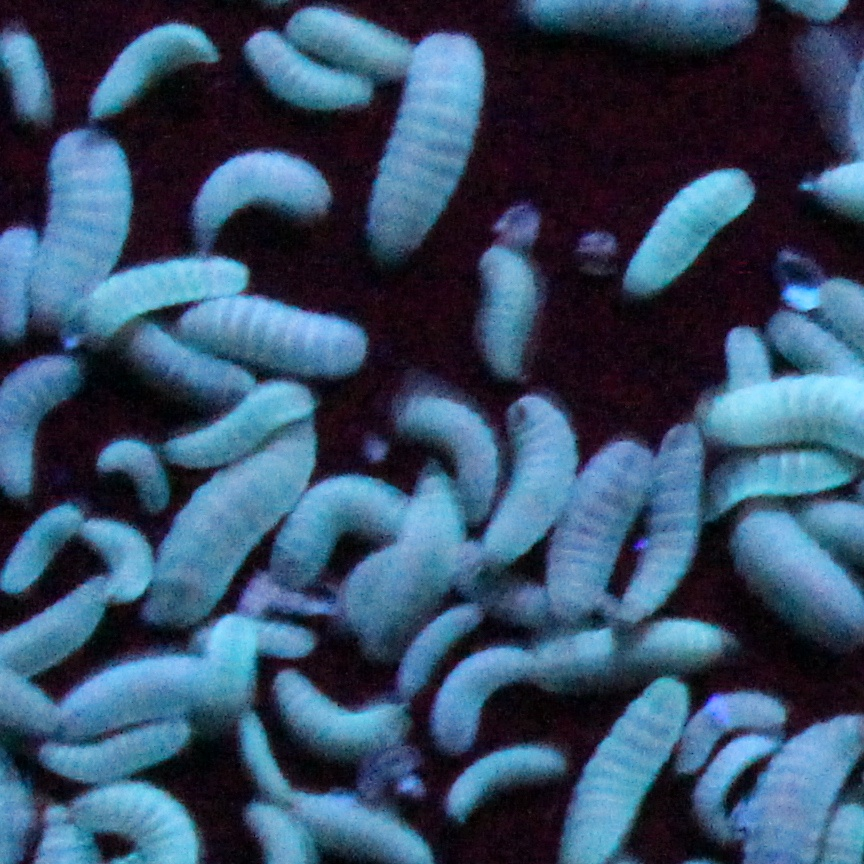larve: (147, 431, 324, 619), (372, 31, 486, 258), (33, 117, 131, 351), (345, 471, 467, 656), (542, 440, 656, 621), (613, 162, 758, 301), (270, 465, 413, 594), (624, 419, 708, 631), (172, 296, 388, 378), (481, 392, 574, 571), (397, 394, 513, 537), (165, 376, 320, 476), (81, 24, 233, 119), (81, 256, 252, 335), (54, 660, 222, 735), (27, 712, 204, 783), (433, 642, 549, 749), (274, 669, 413, 756), (242, 26, 379, 112), (195, 151, 333, 235), (688, 733, 790, 837), (445, 740, 565, 828), (670, 690, 788, 778), (129, 319, 263, 390), (77, 512, 163, 612), (286, 8, 413, 74), (404, 601, 479, 696), (486, 240, 536, 381), (202, 610, 261, 724), (97, 431, 177, 510), (240, 710, 290, 801), (627, 619, 733, 660), (729, 321, 765, 385)
